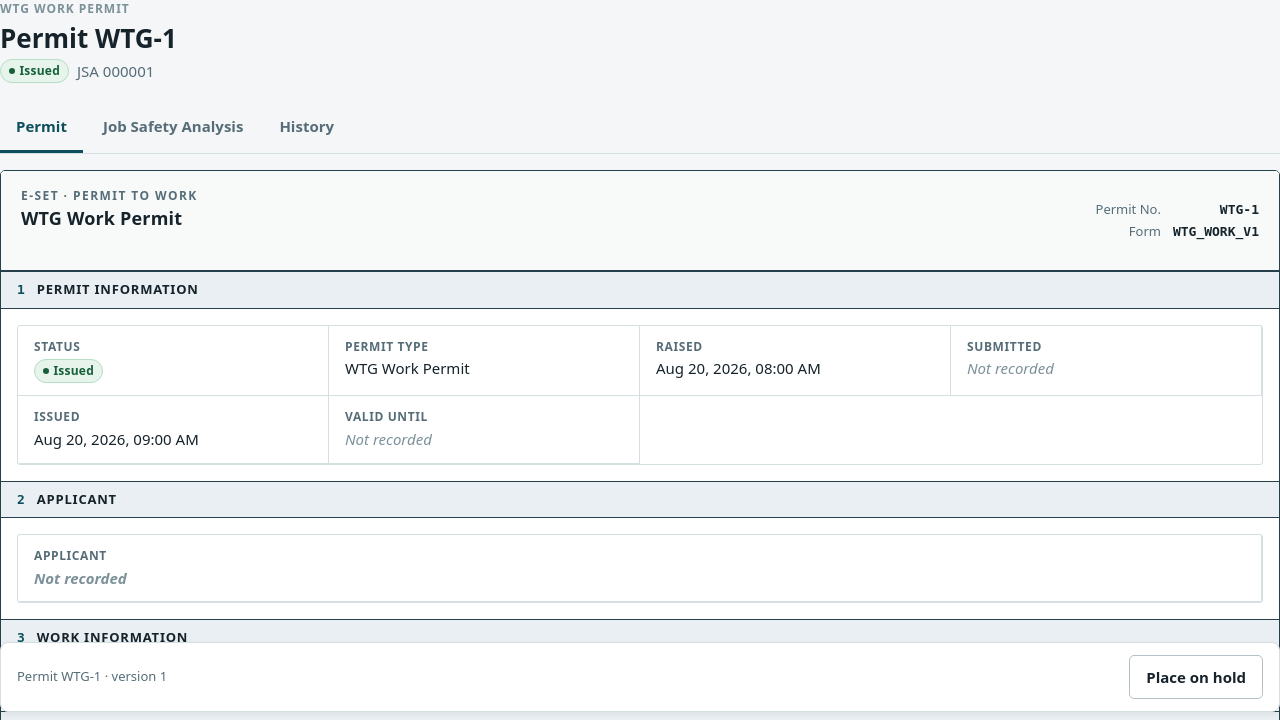
Test: performing an action › requires a hold reason before it will send anything
Click the button "Place on hold": (1196, 677) [1129,655,1263,699]
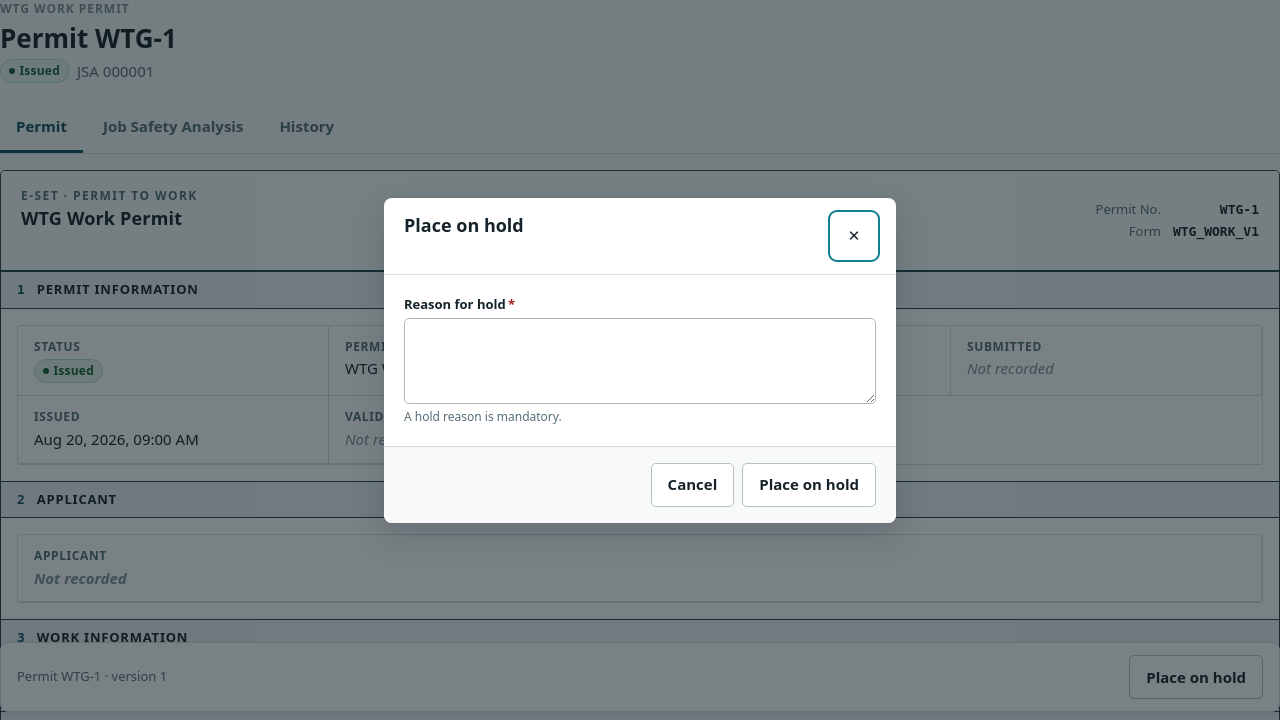
Click the button "Place on hold": (809, 484) [742,462,876,506]
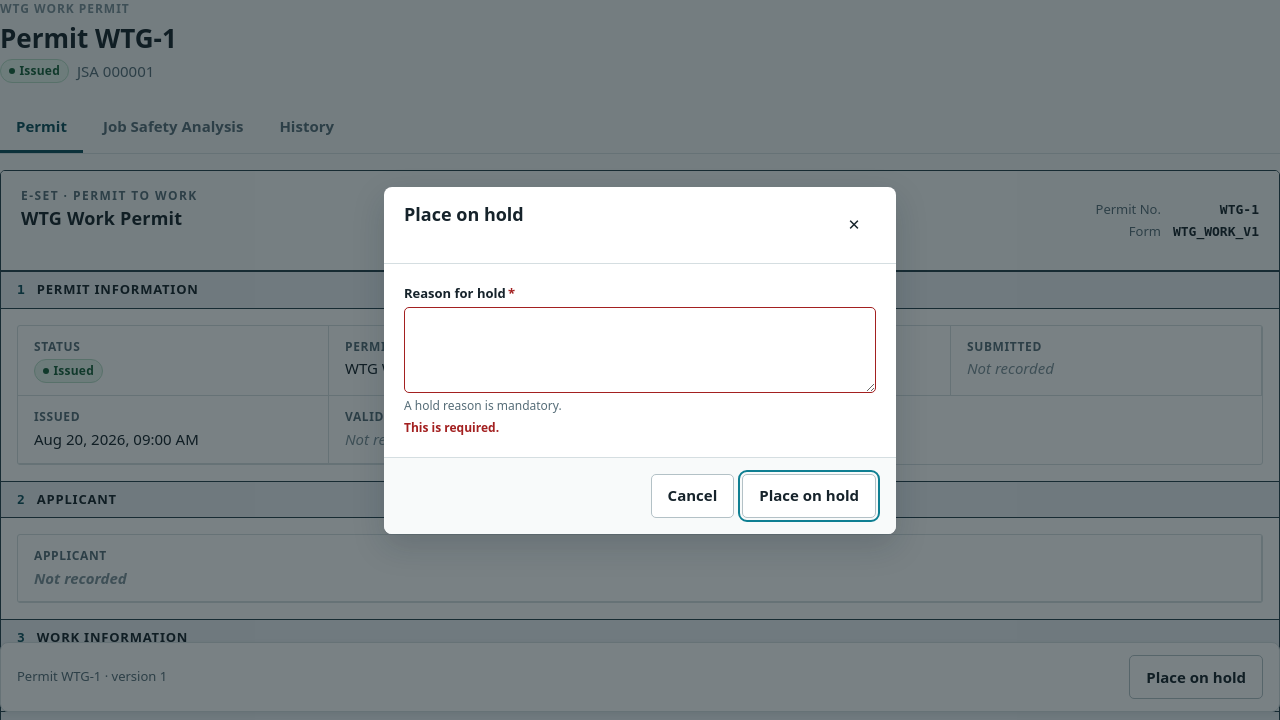
expect the text "This is required." is shown: met, box [404,418,499,436]
